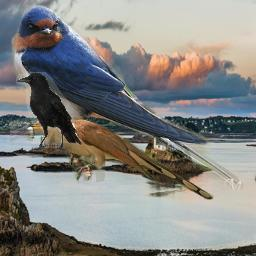Crow: (16, 72, 82, 151)
Cuckoo: (22, 115, 214, 200)
Swallow: (10, 5, 244, 190)
